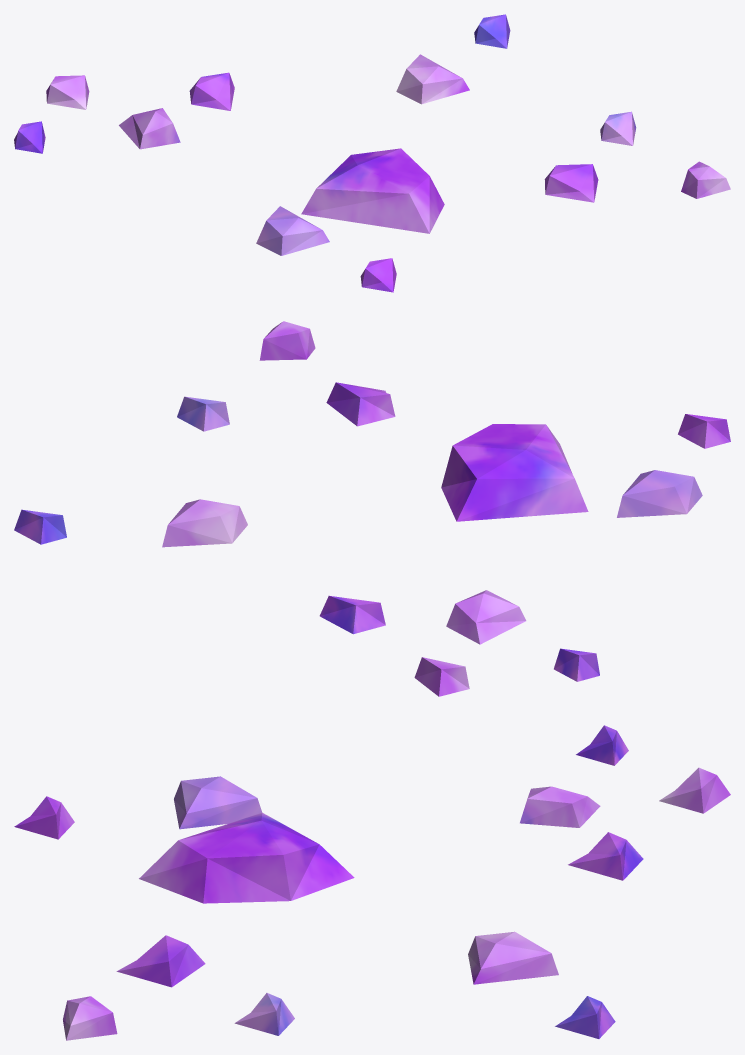
File: rockface_natural_crystallbit02.FBX
3 renders of one model, top to bottom at view 1: azimuth 30°, elevation 25°; view 2: azimuth 150°, elevation 25°; view 3: azimuth 270°, elevation 25°, orthographic. The views are drawn at different scales.
Parts seen in each view (by area): view 1: rockface_natural_crystallbit02; view 2: rockface_natural_crystallbit02; view 3: rockface_natural_crystallbit02.
Part boxes in pixels (x1,y1,x2,y2): rockface_natural_crystallbit02: (14,14,730,292); rockface_natural_crystallbit02: (14,321,730,696); rockface_natural_crystallbit02: (14,725,730,1040).
Size of the model in its own units: 1.46 by 0.1045 by 1.5.
